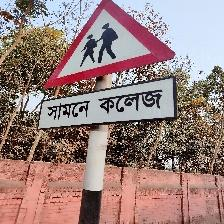College-in-front: (24, 0, 185, 139)
